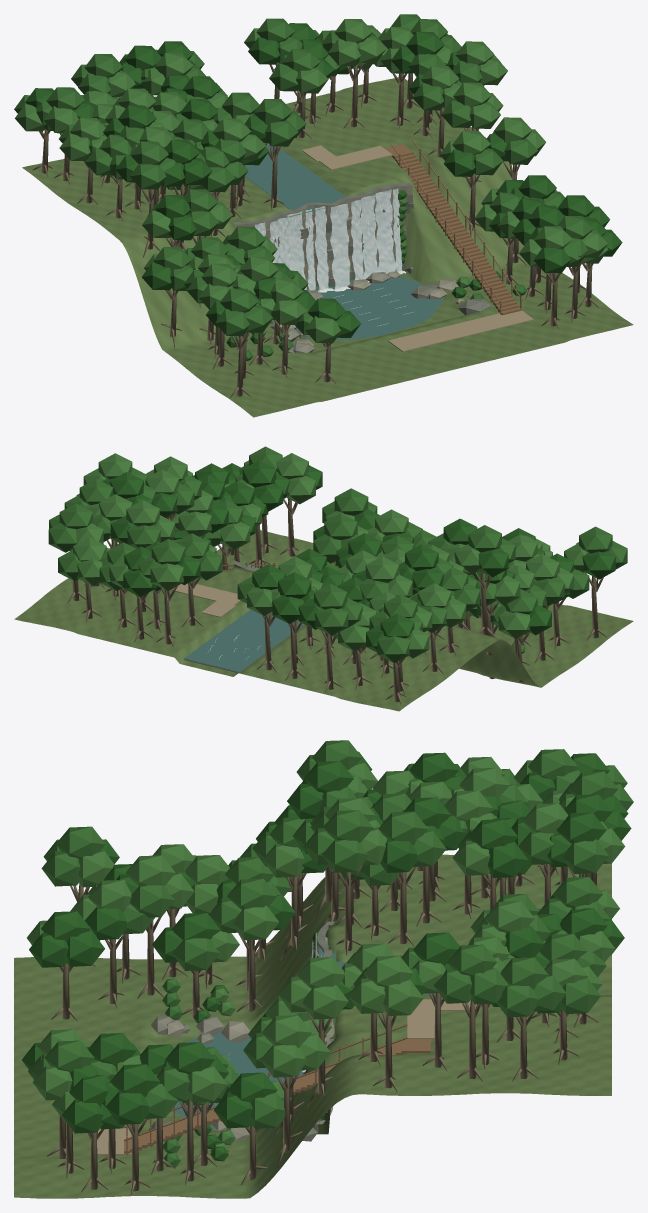
File: phnom-kulen-normal.glb
The picture shows the model from 3 angles, top to bottom: view 1: azimuth 30°, elevation 25°; view 2: azimuth 150°, elevation 25°; view 3: azimuth 270°, elevation 25°; orthographic projection. The views are drawn at different scales.
Parts seen in each view (by area): view 1: Green forest terrain, Forest canopy 1, Forest canopy 2, Forest canopy 0, Forest trunks, Falling water, River and pool, Forest stair timber, Dry bank path, Layered sandstone 0, Layered sandstone 2, Layered sandstone 1 (+1 smaller); view 2: Green forest terrain, Forest canopy 2, Forest canopy 1, Forest canopy 0, Forest trunks, River and pool, Dry bank path; view 3: Green forest terrain, Forest canopy 1, Forest canopy 2, Forest canopy 0, Forest trunks, Forest stair timber, Dry bank path, River and pool, Layered sandstone 2, Layered sandstone 1, Layered sandstone 0.
Part boxes in pixels (x1=…): Green forest terrain: x1=22, y1=77, x2=633, y2=417; Forest canopy 1: x1=14, y1=14, x2=593, y2=360; Forest canopy 2: x1=15, y1=19, x2=608, y2=343; Forest canopy 0: x1=25, y1=23, x2=622, y2=347; Forest trunks: x1=32, y1=62, x2=598, y2=397; Falling water: x1=255, y1=188, x2=402, y2=290; River and pool: x1=244, y1=143, x2=443, y2=340; Forest stair timber: x1=384, y1=139, x2=522, y2=315; Dry bank path: x1=302, y1=145, x2=533, y2=351; Layered sandstone 0: x1=232, y1=183, x2=491, y2=352; Layered sandstone 2: x1=235, y1=185, x2=463, y2=345; Layered sandstone 1: x1=265, y1=194, x2=464, y2=352; Green forest terrain: x1=14, y1=530, x2=633, y2=711; Forest canopy 2: x1=73, y1=453, x2=587, y2=658; Forest canopy 1: x1=48, y1=446, x2=627, y2=663; Forest canopy 0: x1=69, y1=460, x2=615, y2=652; Forest trunks: x1=67, y1=498, x2=607, y2=704; River and pool: x1=184, y1=609, x2=304, y2=672; Dry bank path: x1=171, y1=583, x2=410, y2=617; Green forest terrain: x1=14, y1=854, x2=611, y2=1198; Forest canopy 1: x1=28, y1=740, x2=633, y2=1167; Forest canopy 2: x1=27, y1=757, x2=625, y2=1152; Forest canopy 0: x1=22, y1=751, x2=631, y2=1161; Forest trunks: x1=47, y1=847, x2=598, y2=1195; Forest stair timber: x1=124, y1=1024, x2=430, y2=1155; Dry bank path: x1=97, y1=998, x2=476, y2=1154; River and pool: x1=172, y1=946, x2=599, y2=1129; Layered sandstone 2: x1=165, y1=937, x2=334, y2=1140; Layered sandstone 1: x1=151, y1=952, x2=332, y2=1124; Layered sandstone 0: x1=148, y1=921, x2=334, y2=1141.
Bounding box in the file's own units: 39.09 × 17.31 × 39.41.
